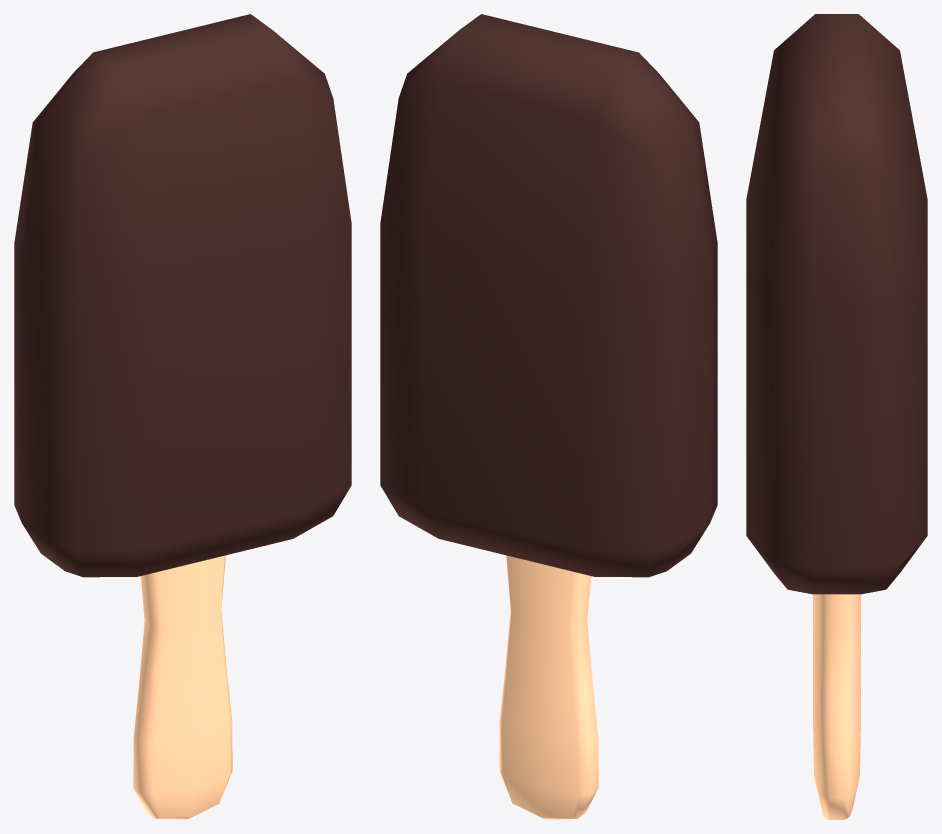
Rendered from ice_cream_001.glb.
The picture shows the model from 3 angles, left to right: view 1: azimuth 30°, elevation 25°; view 2: azimuth 150°, elevation 25°; view 3: azimuth 270°, elevation 25°; orthographic projection.
Visible parts, largest first — view 1: ice_cream_001; view 2: ice_cream_001; view 3: ice_cream_001.
Boxes of the visible parts, x1,y1,x2,y2 form: ice_cream_001: (14,14,351,819); ice_cream_001: (380,14,717,819); ice_cream_001: (746,14,927,819).
Size of the model in its own units: 0.789 by 1.96 by 0.4222.
Materials: 1 (1 with a texture image).
